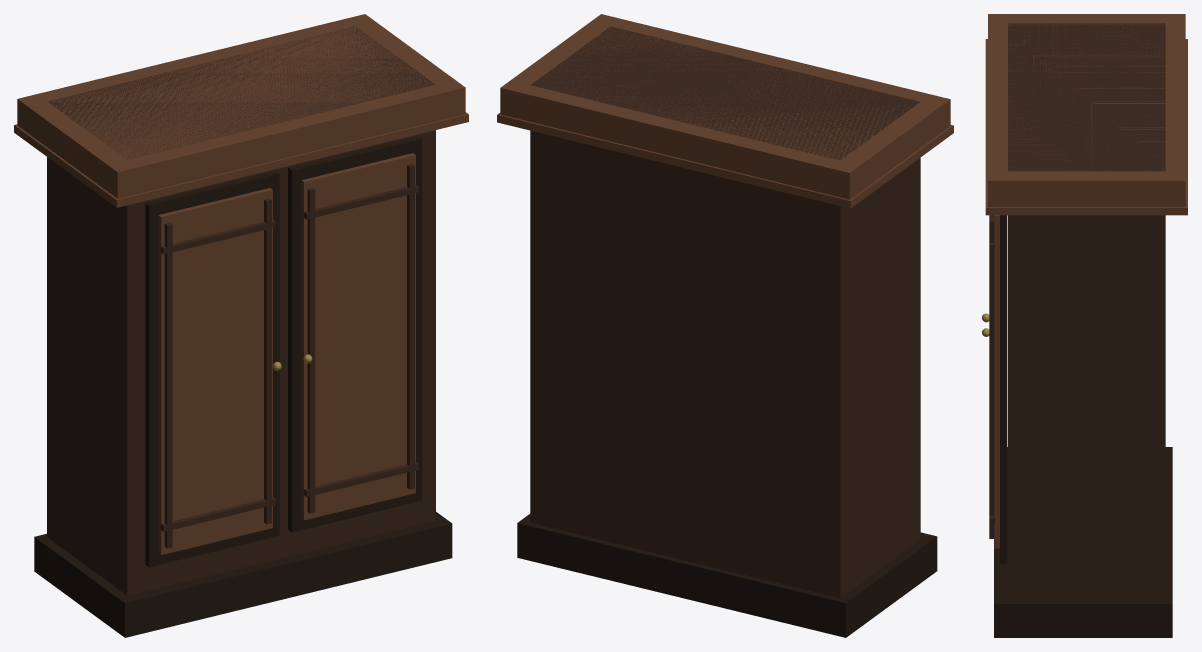
File: wardrobe.glb
The picture shows the model from 3 angles, left to right: view 1: azimuth 30°, elevation 25°; view 2: azimuth 150°, elevation 25°; view 3: azimuth 270°, elevation 25°; orthographic projection. The views are drawn at different scales.
Bounding box in the file's own units: 1.7 × 2.17 × 0.8756.
